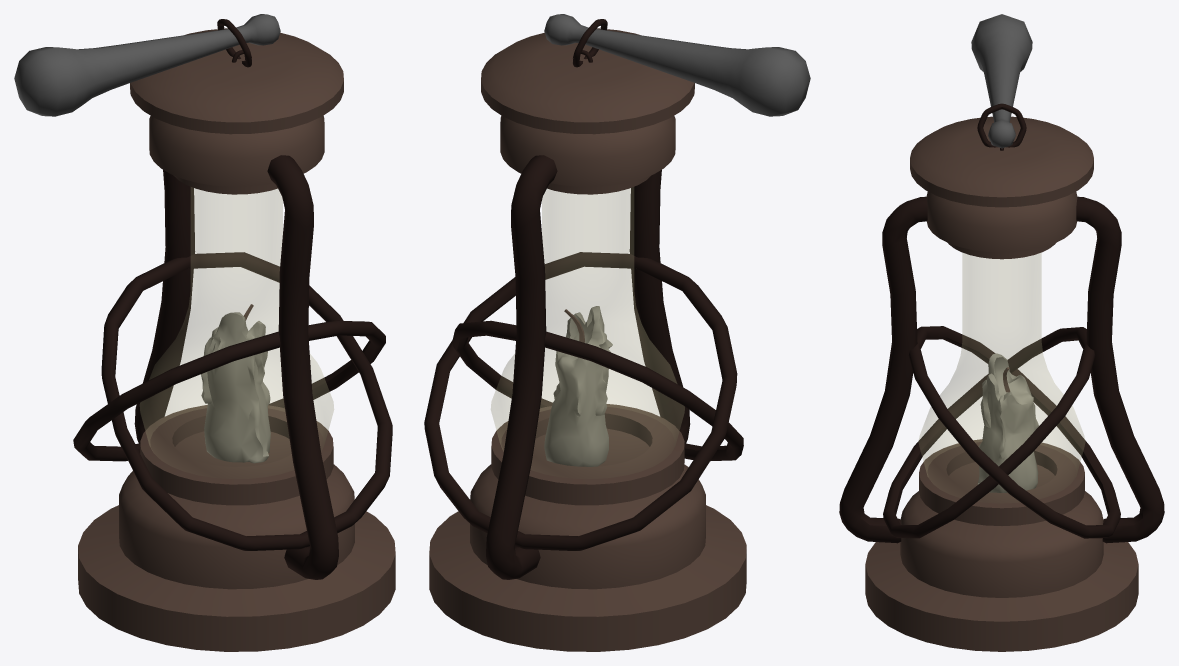
Rendered from torch.fbx.
The picture shows the model from 3 angles, left to right: view 1: azimuth 30°, elevation 25°; view 2: azimuth 150°, elevation 25°; view 3: azimuth 270°, elevation 25°; orthographic projection. The views are drawn at different scales.
Parts seen in each view (by area): view 1: Circle.001; view 2: Circle.001; view 3: Circle.001.
Boxes of the visible parts, x1,y1,x2,y2 form: Circle.001: (14,14,395,651); Circle.001: (424,14,810,651); Circle.001: (839,14,1164,651).
Size of the model in its own units: 242 by 374 by 221.
